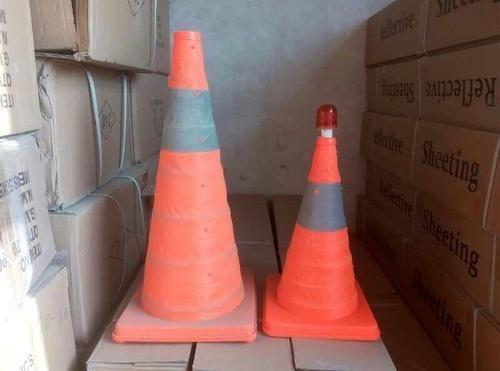cone_barrel: (127, 31, 248, 336), (266, 102, 376, 340)
